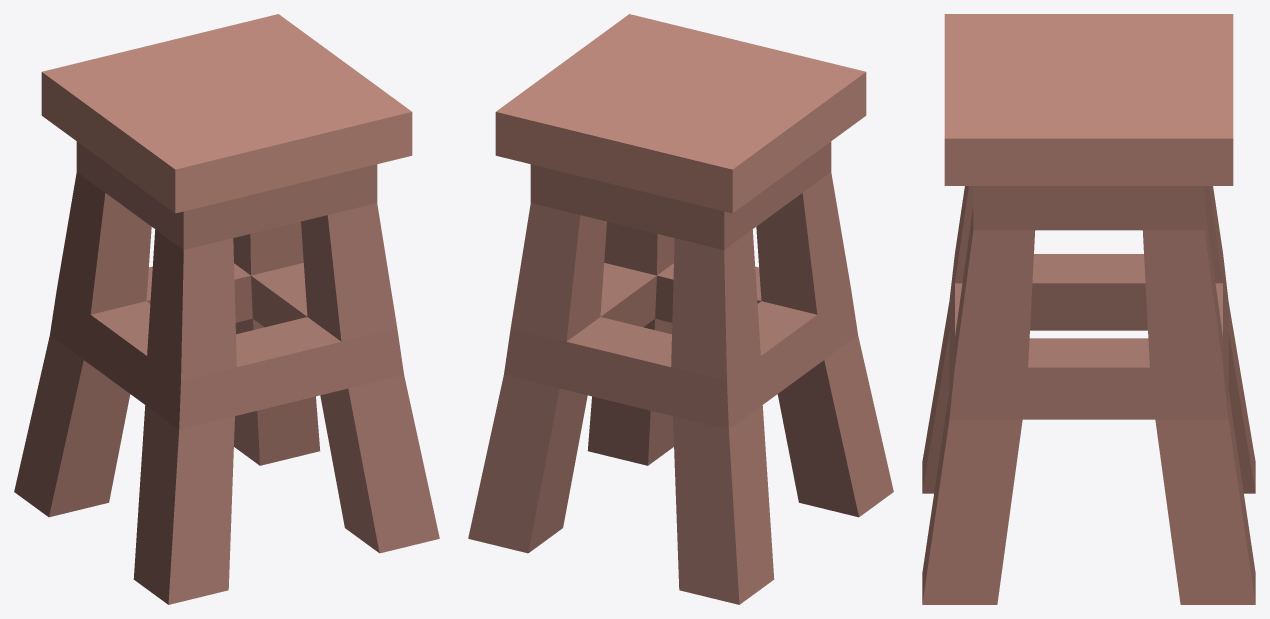
Rendered from Stool.glb.
The picture shows the model from 3 angles, left to right: view 1: azimuth 30°, elevation 25°; view 2: azimuth 150°, elevation 25°; view 3: azimuth 270°, elevation 25°; orthographic projection. The views are drawn at different scales.
Visible parts, largest first — view 1: DarkWood.008, Wood.010; view 2: DarkWood.008, Wood.010; view 3: DarkWood.008, Wood.010.
Part boxes in pixels (x1,y1,x2,y2): DarkWood.008: (14,141,439,604); Wood.010: (41,14,412,213); DarkWood.008: (468,141,893,604); Wood.010: (495,14,866,213); DarkWood.008: (922,186,1255,604); Wood.010: (944,14,1233,185).
Bounding box in the file's own units: 0.3663 × 0.5463 × 0.361.
